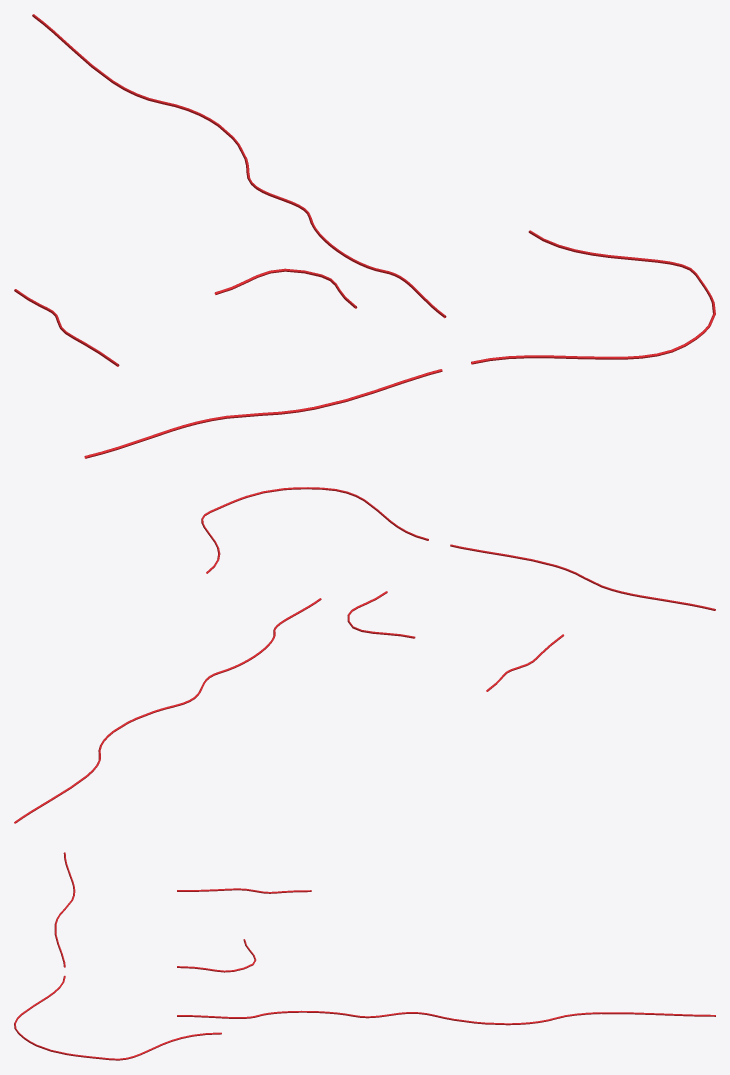
File: cable.fbx
3 renders of one model, top to bottom at view 1: azimuth 30°, elevation 25°; view 2: azimuth 150°, elevation 25°; view 3: azimuth 270°, elevation 25°, orthographic. The views are drawn at different scales.
Parts seen in each view (by area): view 1: cable.001, cable, cable.003; view 2: cable.001, cable, cable.003; view 3: cable.001, cable, cable.002.
Boxes of the visible parts, left/top/right/bottom form: cable.001: left=32, top=14, right=446, bottom=318; cable: left=471, top=230, right=715, bottom=364; cable.003: left=84, top=369, right=442, bottom=458; cable.001: left=14, top=598, right=321, bottom=823; cable: left=201, top=487, right=428, bottom=573; cable.003: left=450, top=544, right=715, bottom=610; cable.001: left=177, top=1010, right=715, bottom=1025; cable: left=14, top=975, right=221, bottom=1060; cable.002: left=177, top=888, right=311, bottom=893.
Size of the model in its own units: 2180 by 108 by 3126.
